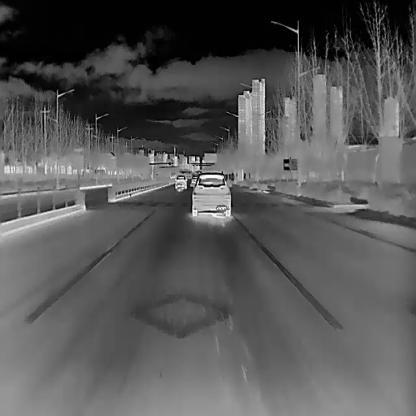car: (191, 170, 230, 216), (174, 173, 187, 189), (191, 175, 199, 184)
